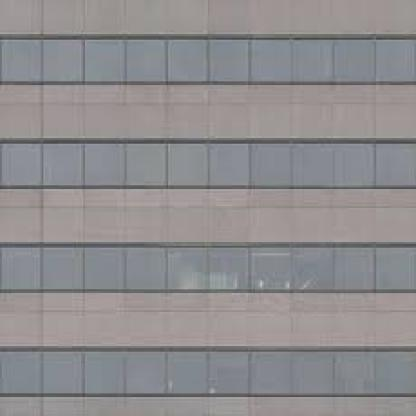window: (251, 352, 295, 393), (335, 352, 376, 393), (251, 252, 292, 291), (1, 354, 42, 393), (42, 354, 83, 393), (83, 356, 125, 393), (334, 252, 375, 289), (210, 354, 248, 393), (376, 356, 414, 395), (208, 252, 248, 289), (124, 356, 164, 393), (293, 254, 335, 289), (2, 250, 40, 288), (45, 42, 83, 80), (297, 352, 332, 393), (378, 43, 414, 82), (378, 146, 414, 185), (126, 252, 164, 288), (2, 42, 38, 80), (87, 44, 123, 80), (5, 147, 40, 184), (378, 254, 414, 289), (214, 44, 249, 80), (128, 147, 163, 182), (46, 252, 82, 286), (336, 150, 372, 184), (89, 147, 123, 182), (170, 44, 204, 78), (172, 150, 206, 184), (47, 147, 80, 182), (172, 356, 204, 392), (293, 152, 329, 184), (255, 44, 288, 78), (213, 150, 246, 184), (336, 46, 371, 78), (132, 44, 163, 80), (89, 252, 121, 286), (297, 46, 329, 80), (255, 150, 286, 184), (172, 252, 202, 284)
